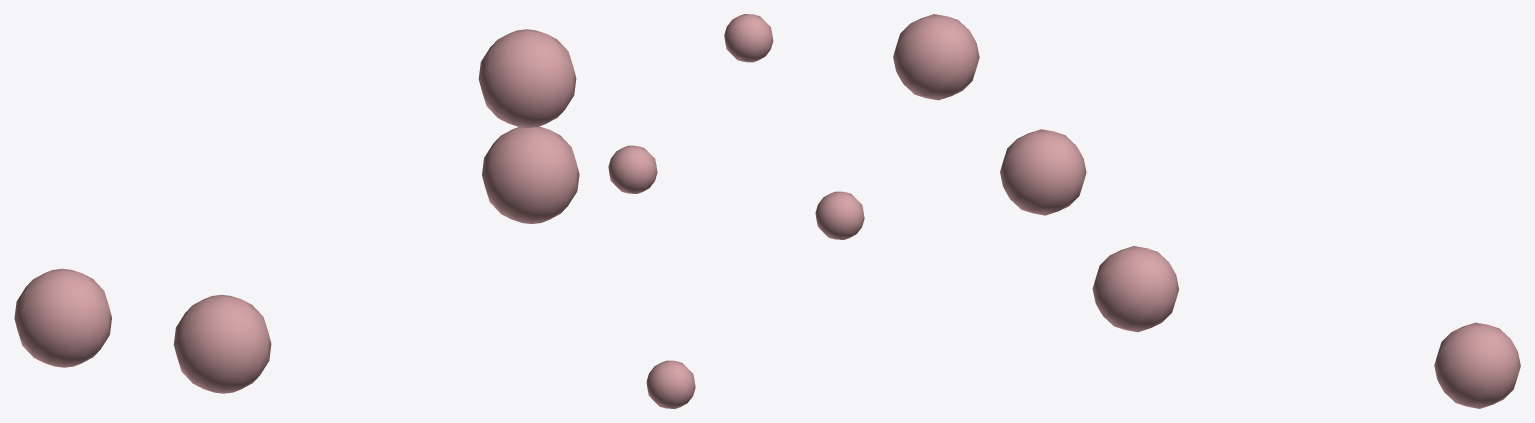
The picture shows the model from 3 angles, left to right: view 1: azimuth 30°, elevation 25°; view 2: azimuth 150°, elevation 25°; view 3: azimuth 270°, elevation 25°; orthographic projection. The views are drawn at different scales.
Parts seen in each view (by area): view 1: ZA_9f68fb0b6a1ead8b; view 2: ZA_9f68fb0b6a1ead8b; view 3: ZA_9f68fb0b6a1ead8b.
Part boxes in pixels (left/top/right/bottom): ZA_9f68fb0b6a1ead8b: left=14, top=29, right=579, bottom=393; ZA_9f68fb0b6a1ead8b: left=608, top=14, right=864, bottom=408; ZA_9f68fb0b6a1ead8b: left=893, top=14, right=1520, bottom=408.
Size of the model in its own units: 0.0135 by 0.015 by 0.0188.
